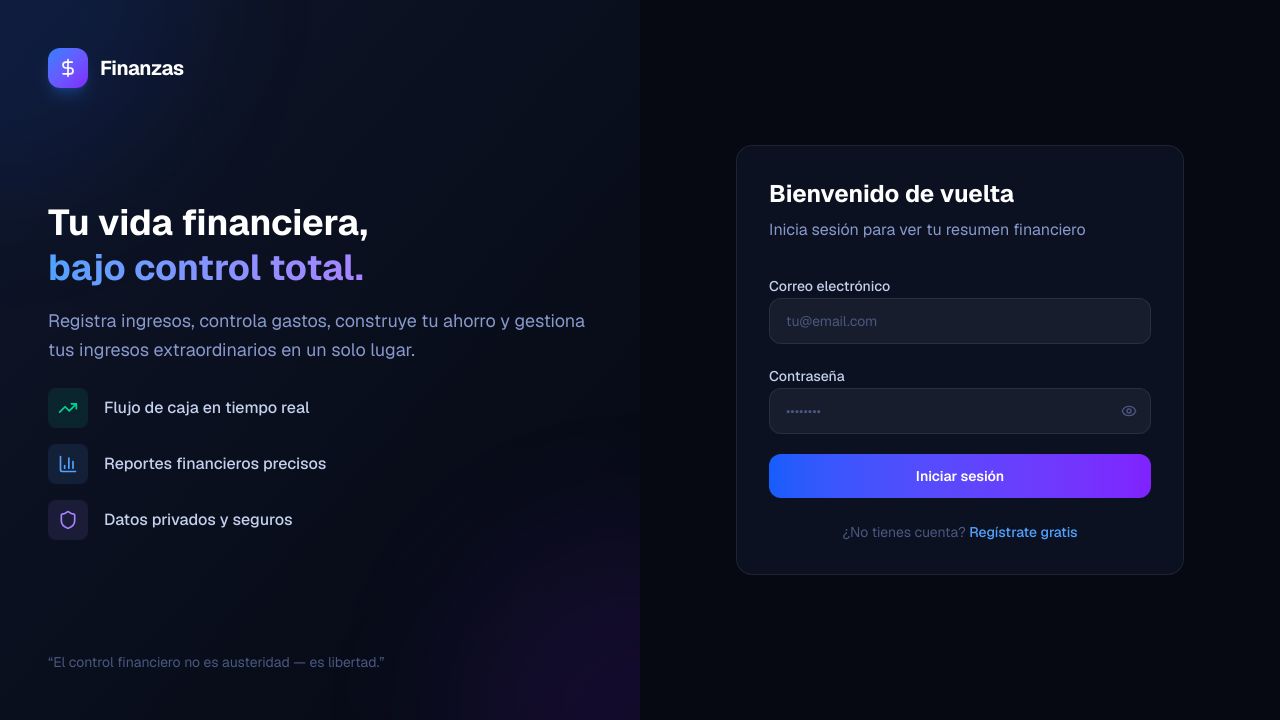
LoginPage › handles network errors gracefully
Type "test@example.com" into the field labelled "Correo electrónico" at [960, 321], box [769,298,1151,344]
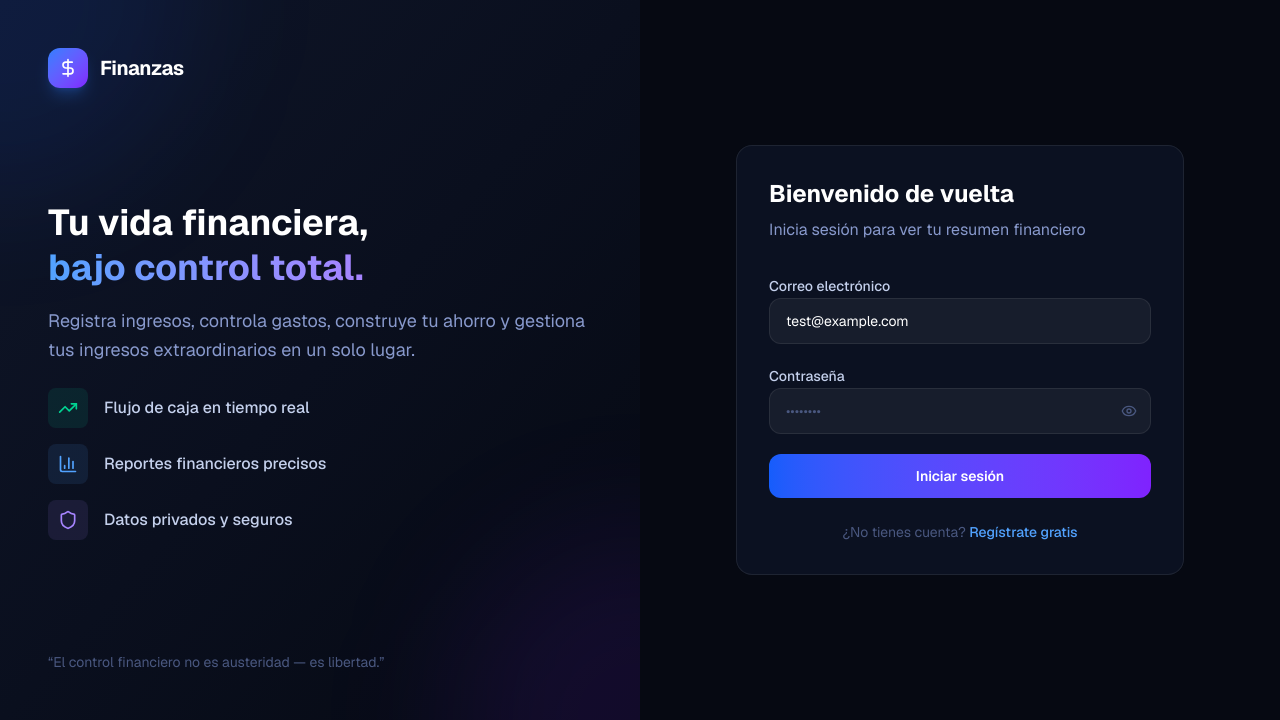
Type "password123" into the password field labelled "Contraseña" at [960, 411], box [769,388,1151,434]
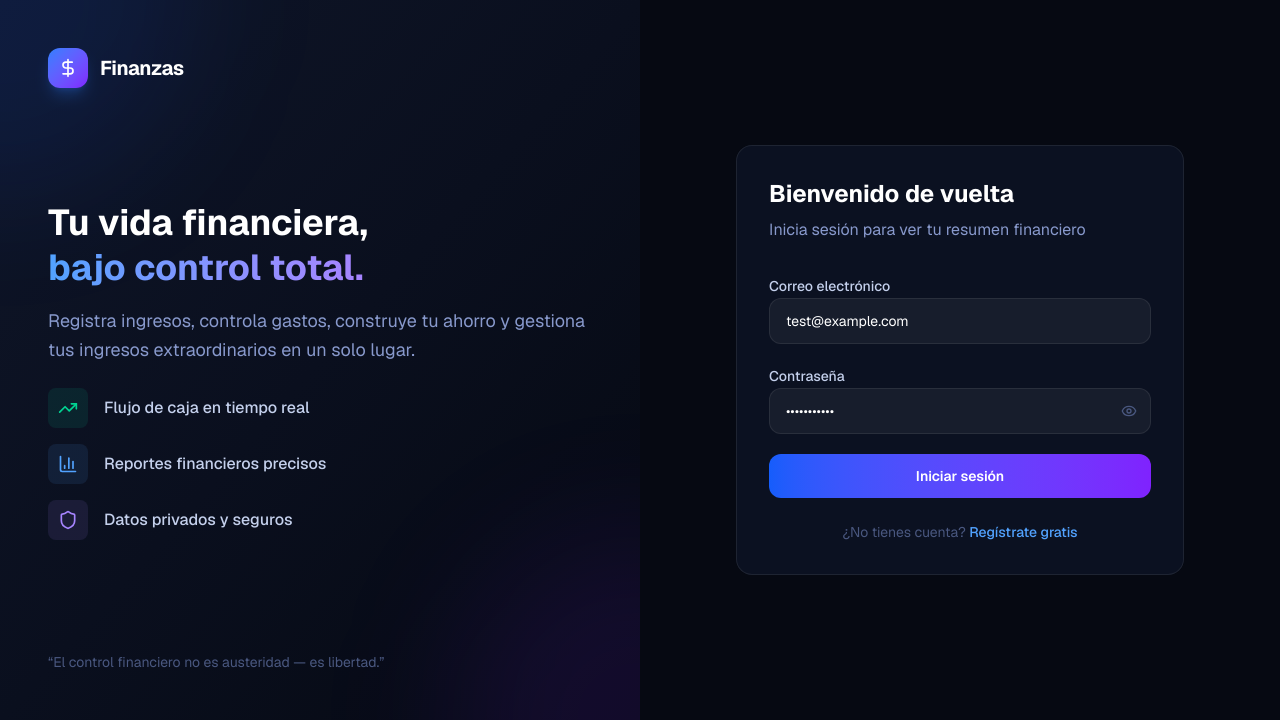
Click the button "Iniciar sesión" at [960, 476], box [769,454,1151,498]
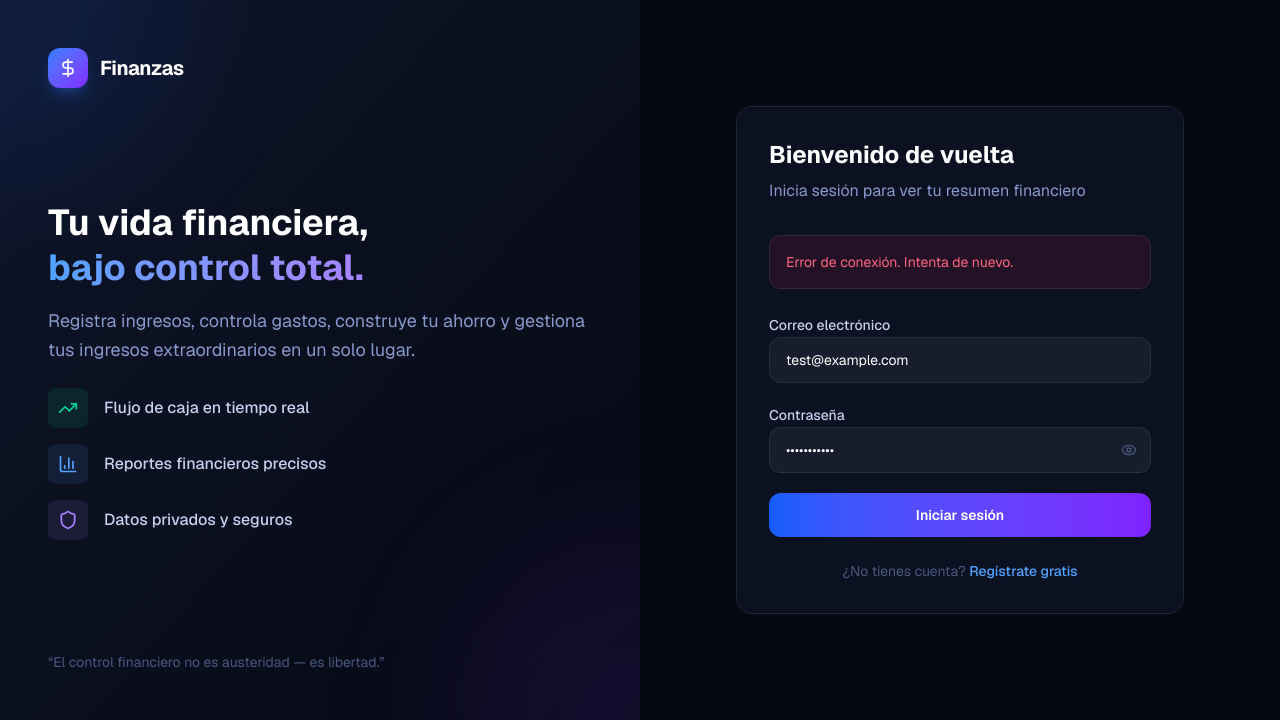
Result: the text "Error de conexión. Intenta de nuevo." is shown at [769,235,1151,289]
